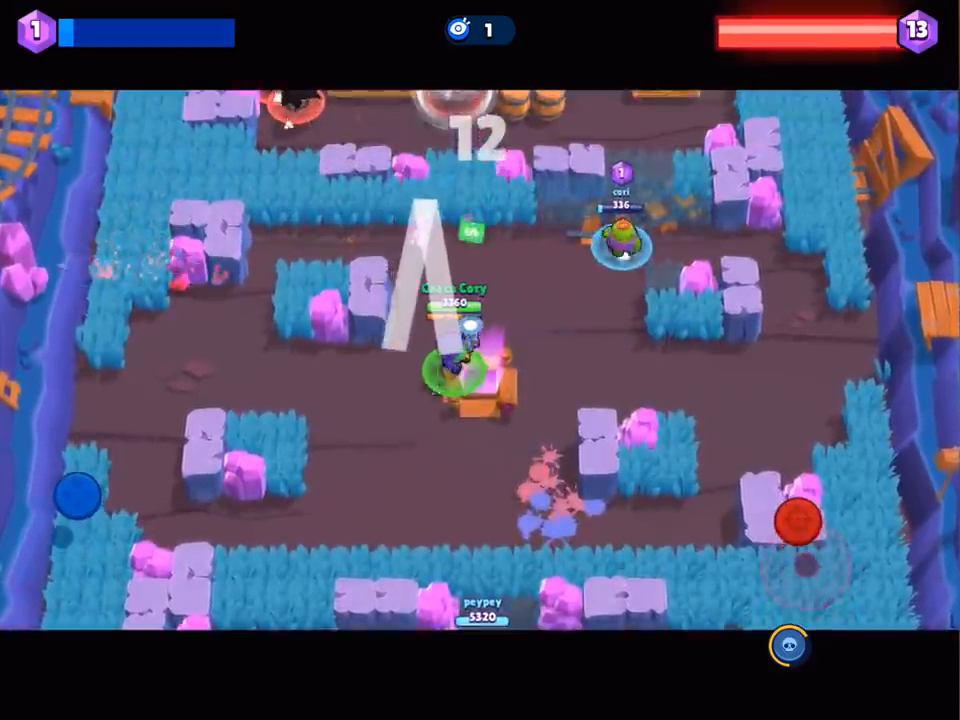move_stick: (54, 468, 101, 518)
red: (263, 81, 331, 141)
